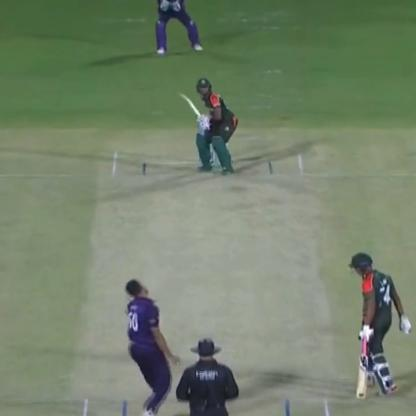bat: (174, 83, 219, 133)
pitch: (74, 148, 350, 416)
